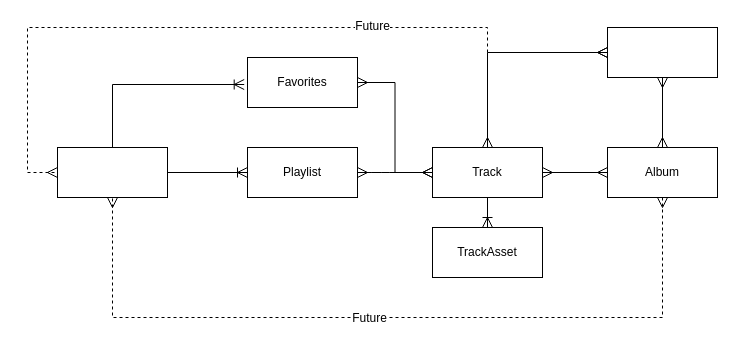
The diagram is 735 pixels wide and 346 high, and some of its shapes have lost their labels. Each missing label, with the centre of its shape:
"Artist" belongs at pixel 662 52.
"User" belongs at pixel 112 172.
